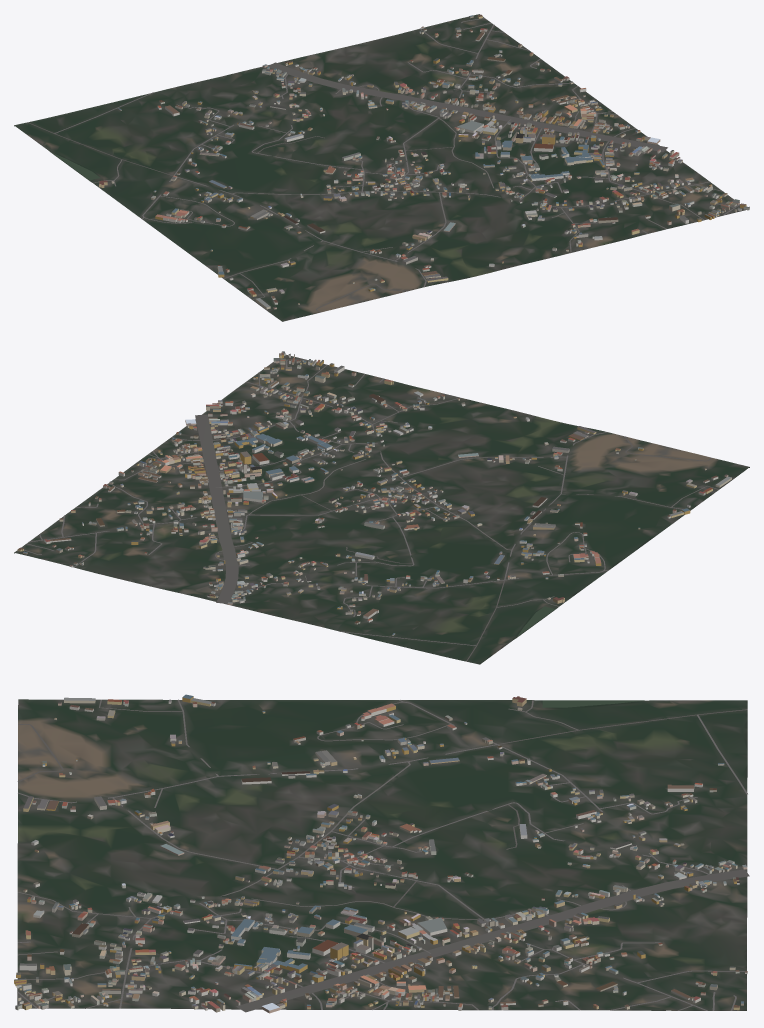
The picture shows the model from 3 angles, top to bottom: view 1: azimuth 30°, elevation 25°; view 2: azimuth 150°, elevation 25°; view 3: azimuth 270°, elevation 25°; orthographic projection. The views are drawn at different scales.
Visible parts, largest first — view 1: ground, buildings, roads; view 2: ground, buildings, roads; view 3: ground, buildings, roads, water.
Part boxes in pixels (x1,y1,x2,y2): ground: (14, 14, 745, 321); buildings: (99, 14, 749, 309); roads: (27, 18, 739, 312); ground: (14, 354, 749, 664); buildings: (17, 351, 731, 635); roads: (24, 359, 718, 661); ground: (17, 699, 747, 1010); buildings: (14, 694, 747, 1013); roads: (17, 699, 749, 1012); water: (541, 700, 644, 707).
Bounding box in the file's own units: 1423 × 31.1 × 1414.
